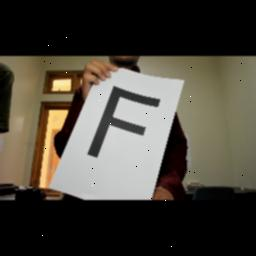f: (86, 85, 160, 161)
